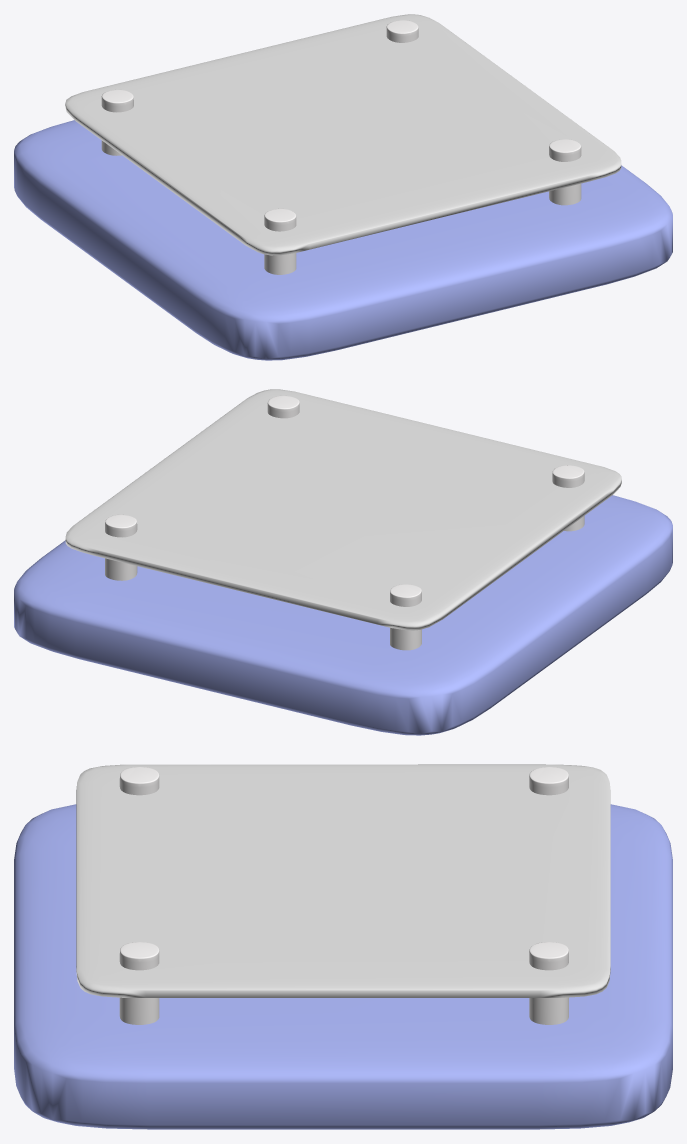
Rendered from MenuItem-optimized.fbx.
3 views of the same model, one above another, from view 1: azimuth 30°, elevation 25°; view 2: azimuth 150°, elevation 25°; view 3: azimuth 270°, elevation 25° (orthographic). The views are drawn at different scales.
Parts seen in each view (by area): view 1: glass, base, rod3, rod4, rod1, rod2; view 2: glass, base, rod1, rod2, rod3, rod4; view 3: glass, base, rod4, rod2, rod3, rod1.
Part boxes in pixels (bbox=[...]): glass: bbox=[65, 14, 621, 255]; base: bbox=[14, 120, 672, 360]; rod3: bbox=[264, 208, 296, 274]; rod4: bbox=[549, 139, 581, 205]; rod1: bbox=[101, 89, 133, 155]; rod2: bbox=[386, 20, 418, 42]; glass: bbox=[65, 389, 621, 630]; base: bbox=[14, 495, 672, 735]; rod1: bbox=[390, 584, 421, 650]; rod2: bbox=[105, 514, 137, 580]; rod3: bbox=[552, 465, 584, 531]; rod4: bbox=[267, 395, 299, 418]; glass: bbox=[76, 764, 610, 997]; base: bbox=[14, 804, 672, 1129]; rod4: bbox=[119, 942, 159, 1024]; rod2: bbox=[529, 942, 568, 1024]; rod3: bbox=[119, 767, 159, 795]; rod1: bbox=[529, 767, 568, 795].
Size of the model in its own units: 3.97 by 0.9114 by 3.97.
